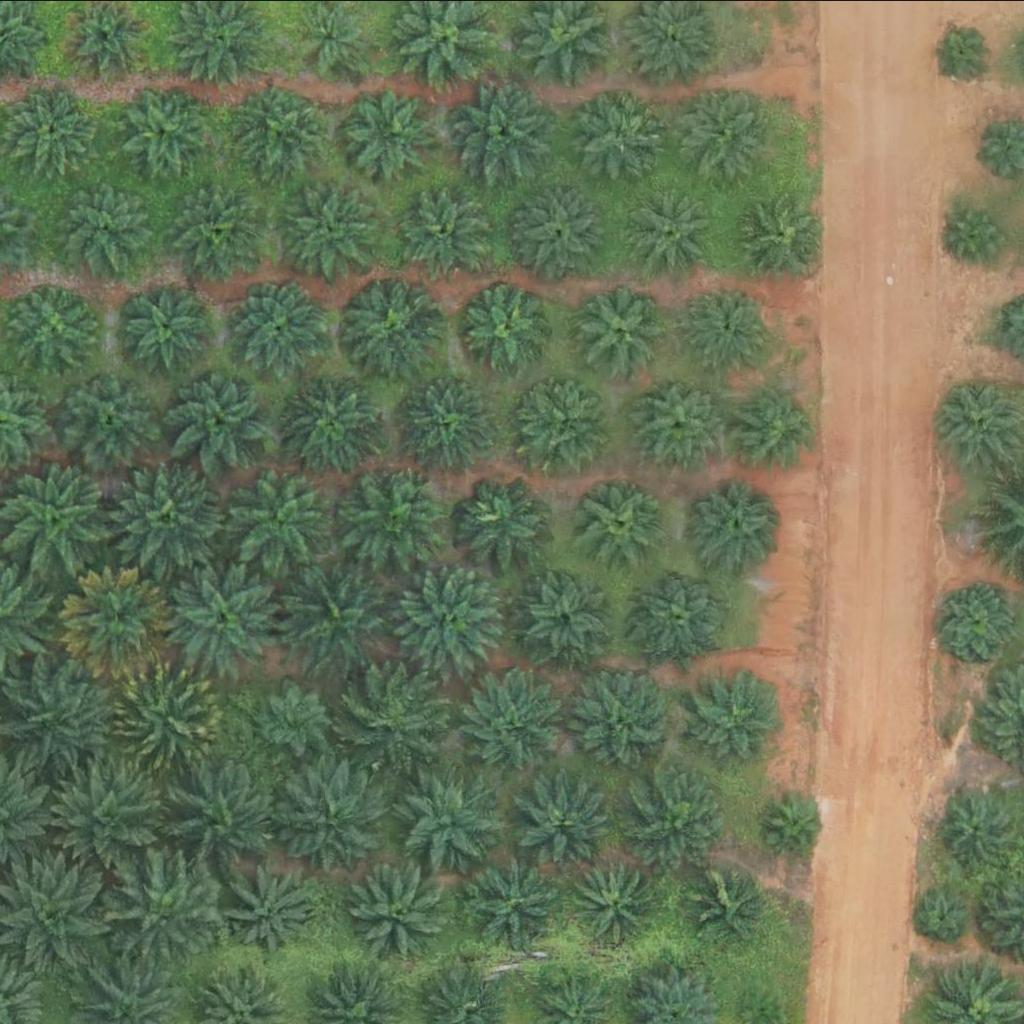Kelapa_Sawit: (401, 562, 515, 675), (1, 653, 114, 766), (229, 460, 342, 573), (62, 564, 175, 677), (111, 662, 224, 775), (163, 562, 276, 675), (281, 565, 394, 678), (168, 762, 282, 874), (271, 758, 385, 870), (104, 853, 218, 965), (111, 462, 224, 574), (55, 765, 168, 877), (116, 80, 217, 180), (232, 79, 333, 179), (456, 81, 557, 181), (52, 174, 153, 274), (169, 177, 270, 277), (278, 178, 379, 278), (395, 179, 496, 279), (511, 181, 612, 281), (229, 278, 330, 378), (342, 273, 443, 373), (60, 368, 161, 468), (169, 370, 270, 470), (285, 372, 386, 472), (395, 370, 496, 470), (339, 462, 440, 562), (400, 771, 501, 871), (349, 862, 450, 962), (461, 854, 562, 954), (628, 767, 729, 867), (573, 673, 674, 773), (683, 668, 784, 768), (669, 84, 770, 184), (451, 473, 551, 573), (344, 666, 444, 766), (465, 673, 565, 773), (632, 562, 732, 662), (683, 470, 783, 570), (629, 368, 729, 468), (8, 83, 96, 171), (466, 283, 554, 371), (524, 577, 612, 665), (574, 856, 662, 944), (579, 283, 667, 371), (685, 281, 773, 369), (625, 185, 713, 273), (735, 188, 823, 276), (344, 89, 432, 176), (11, 284, 99, 371), (126, 281, 214, 368), (525, 378, 613, 465), (526, 777, 614, 864), (227, 865, 315, 952), (575, 475, 663, 562), (732, 381, 820, 468), (572, 82, 660, 169), (255, 682, 331, 757), (938, 581, 1014, 656), (692, 862, 767, 937), (941, 790, 1016, 865), (765, 795, 828, 858), (930, 22, 993, 85), (946, 203, 1009, 265), (920, 890, 970, 940)
